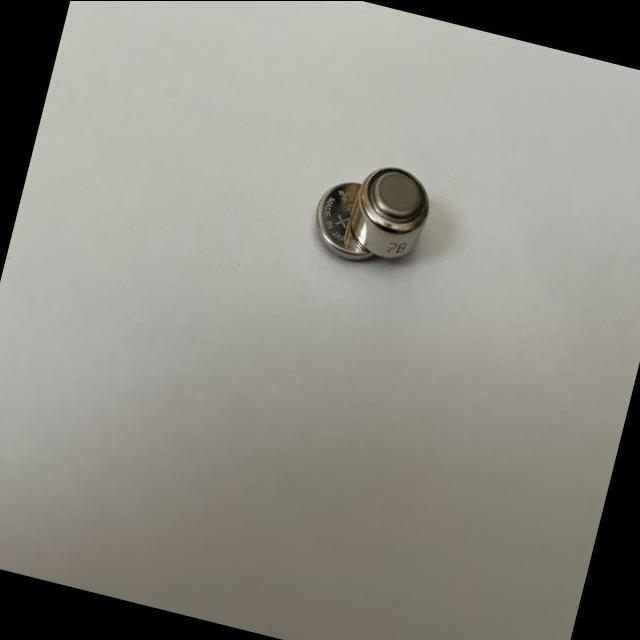COIN: (342, 162, 438, 269), (308, 174, 387, 265)
